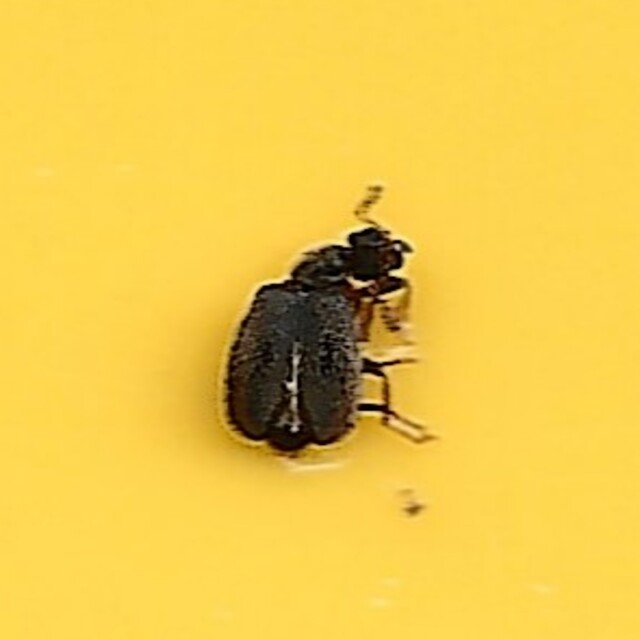Coleoptera: (217, 182, 423, 458)
